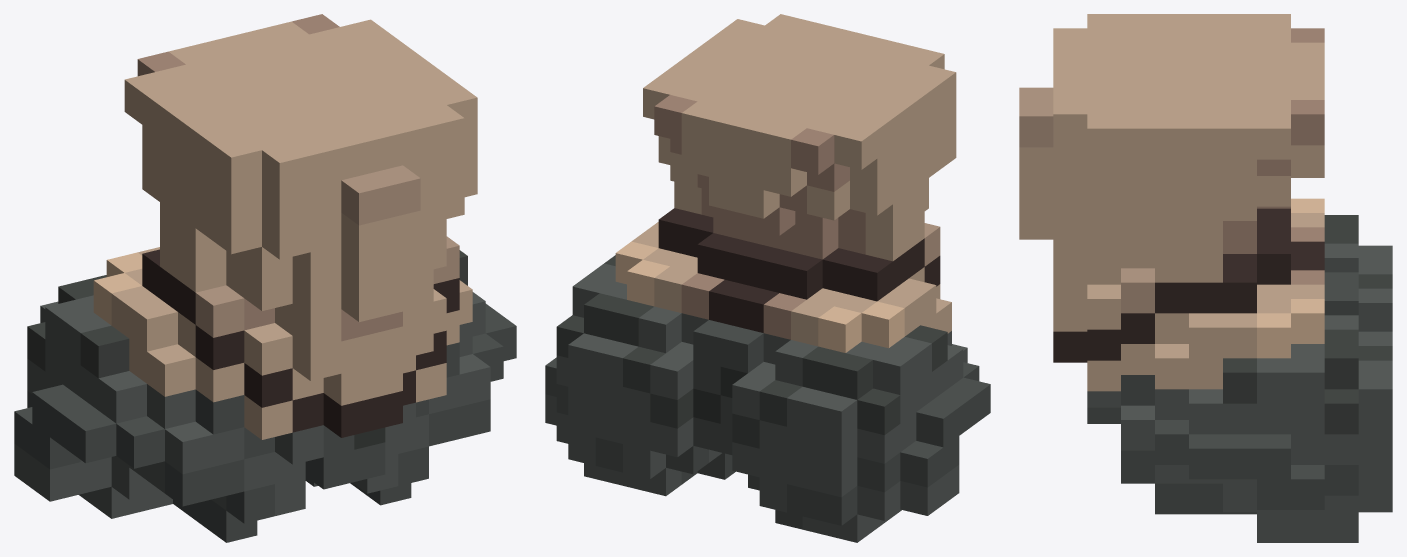
File: Blonde-14.obj
3 views of the same model, side by side, from view 1: azimuth 30°, elevation 25°; view 2: azimuth 150°, elevation 25°; view 3: azimuth 270°, elevation 25° (orthographic). The views are drawn at different scales.
Bounding box in the file's own units: 1.4 × 1.3 × 1.1.
1 material, 1 textured.
